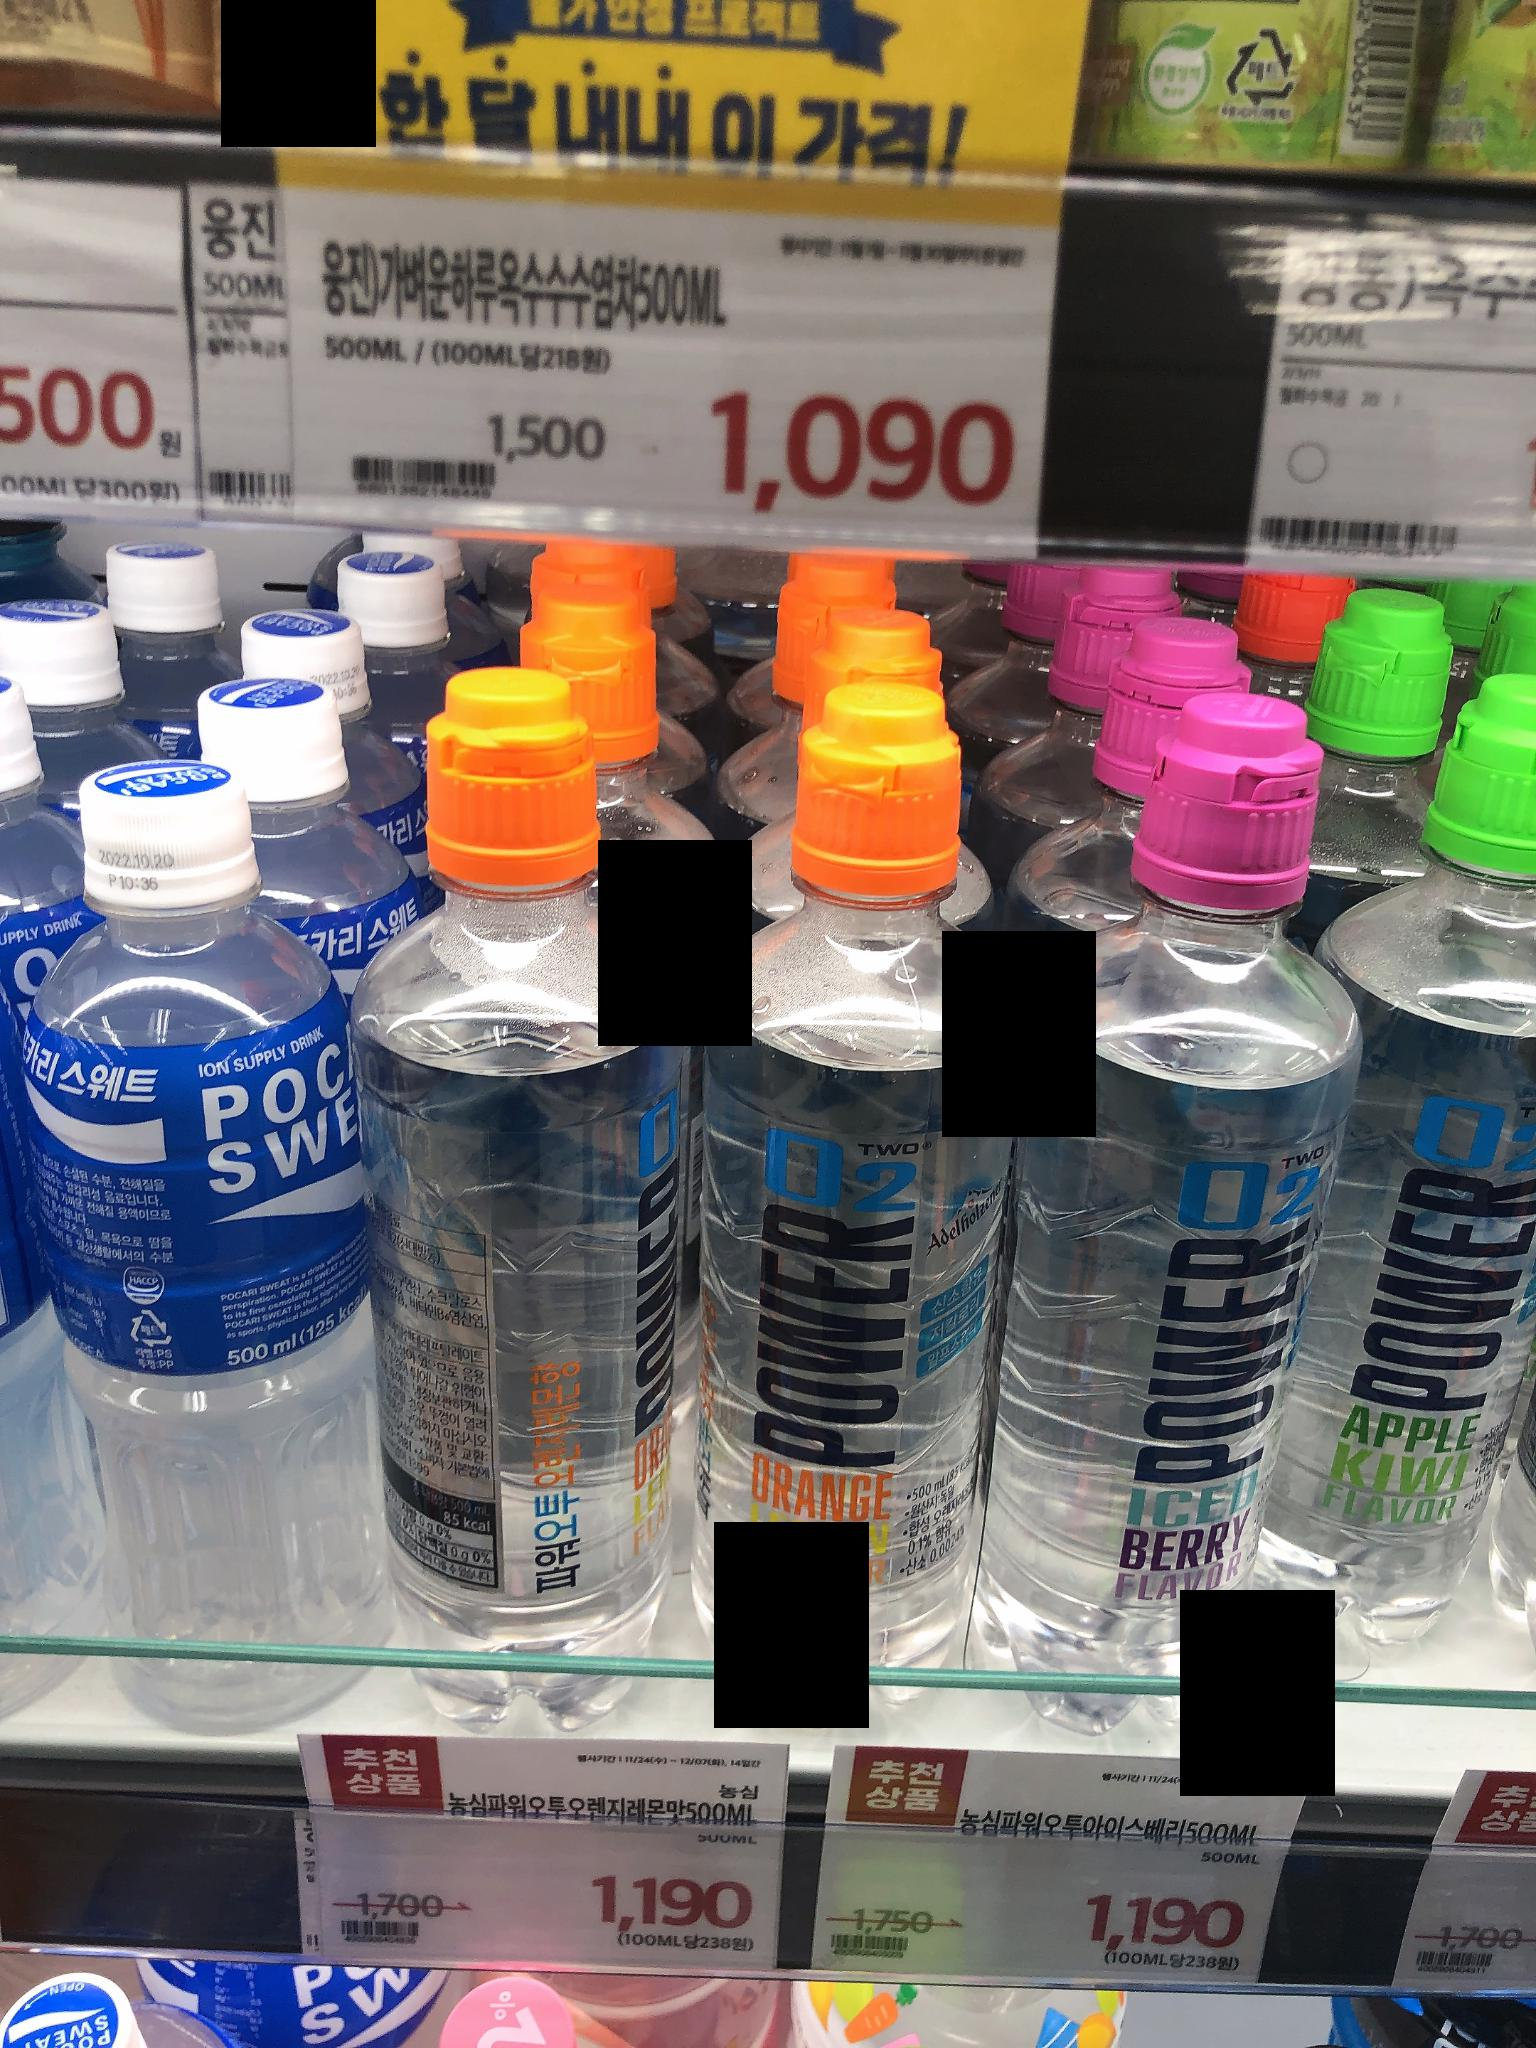pocarisweat: (3, 740, 324, 1740)
powerO2_orange: (345, 669, 681, 1700), (729, 676, 1036, 1701)
